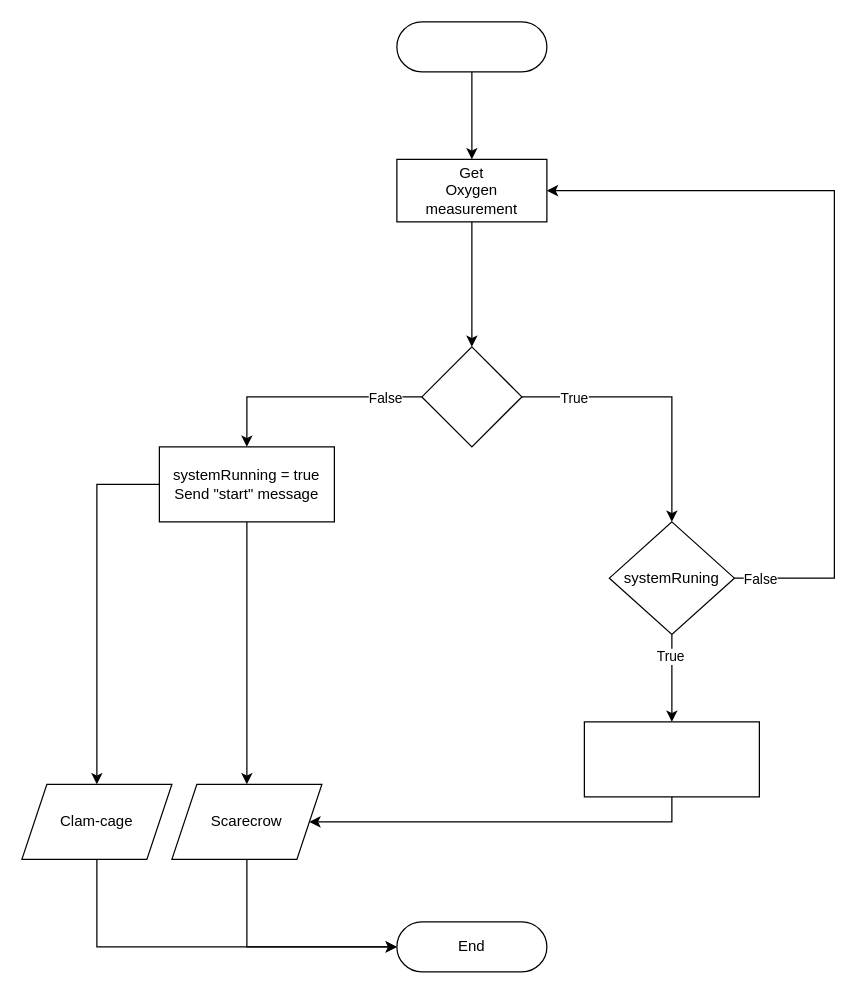
Image size: 866x994. Some labels were removed from this diagram. The centre of each missing label's shape, as x and y in pixels:
Oxygen > 4mg/L: (471,396)
Start: (471,46)
systemRunning = false Send "stop" message: (671,759)
